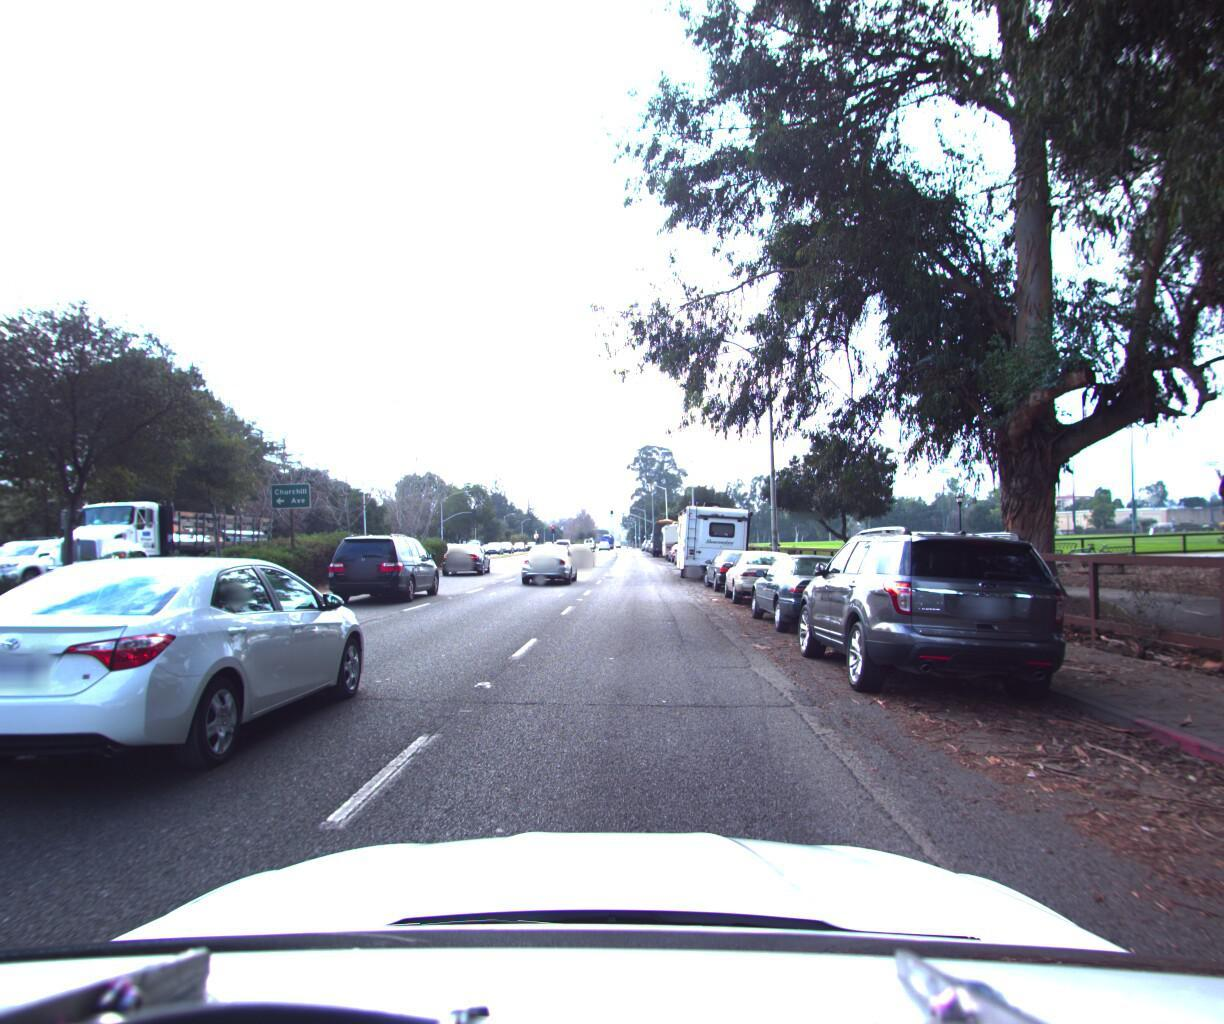bus: (650, 511, 681, 549)
car: (0, 532, 391, 804), (781, 506, 1096, 718), (741, 540, 897, 637), (318, 530, 448, 605), (718, 540, 811, 602), (0, 541, 98, 598), (699, 539, 771, 590), (516, 536, 582, 581), (438, 538, 492, 573), (561, 537, 594, 562)
other_vehicle: (670, 493, 755, 576), (658, 515, 697, 552)
truck: (13, 498, 285, 587)
